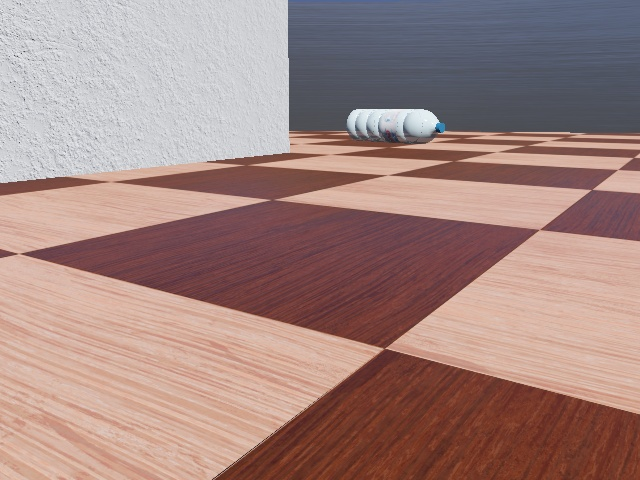chai_nhua: (346, 106, 447, 145)
